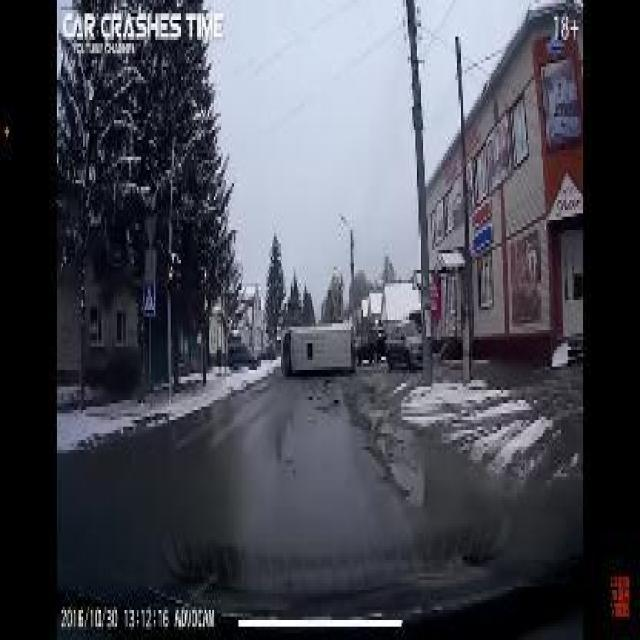accident: (277, 317, 357, 380)
